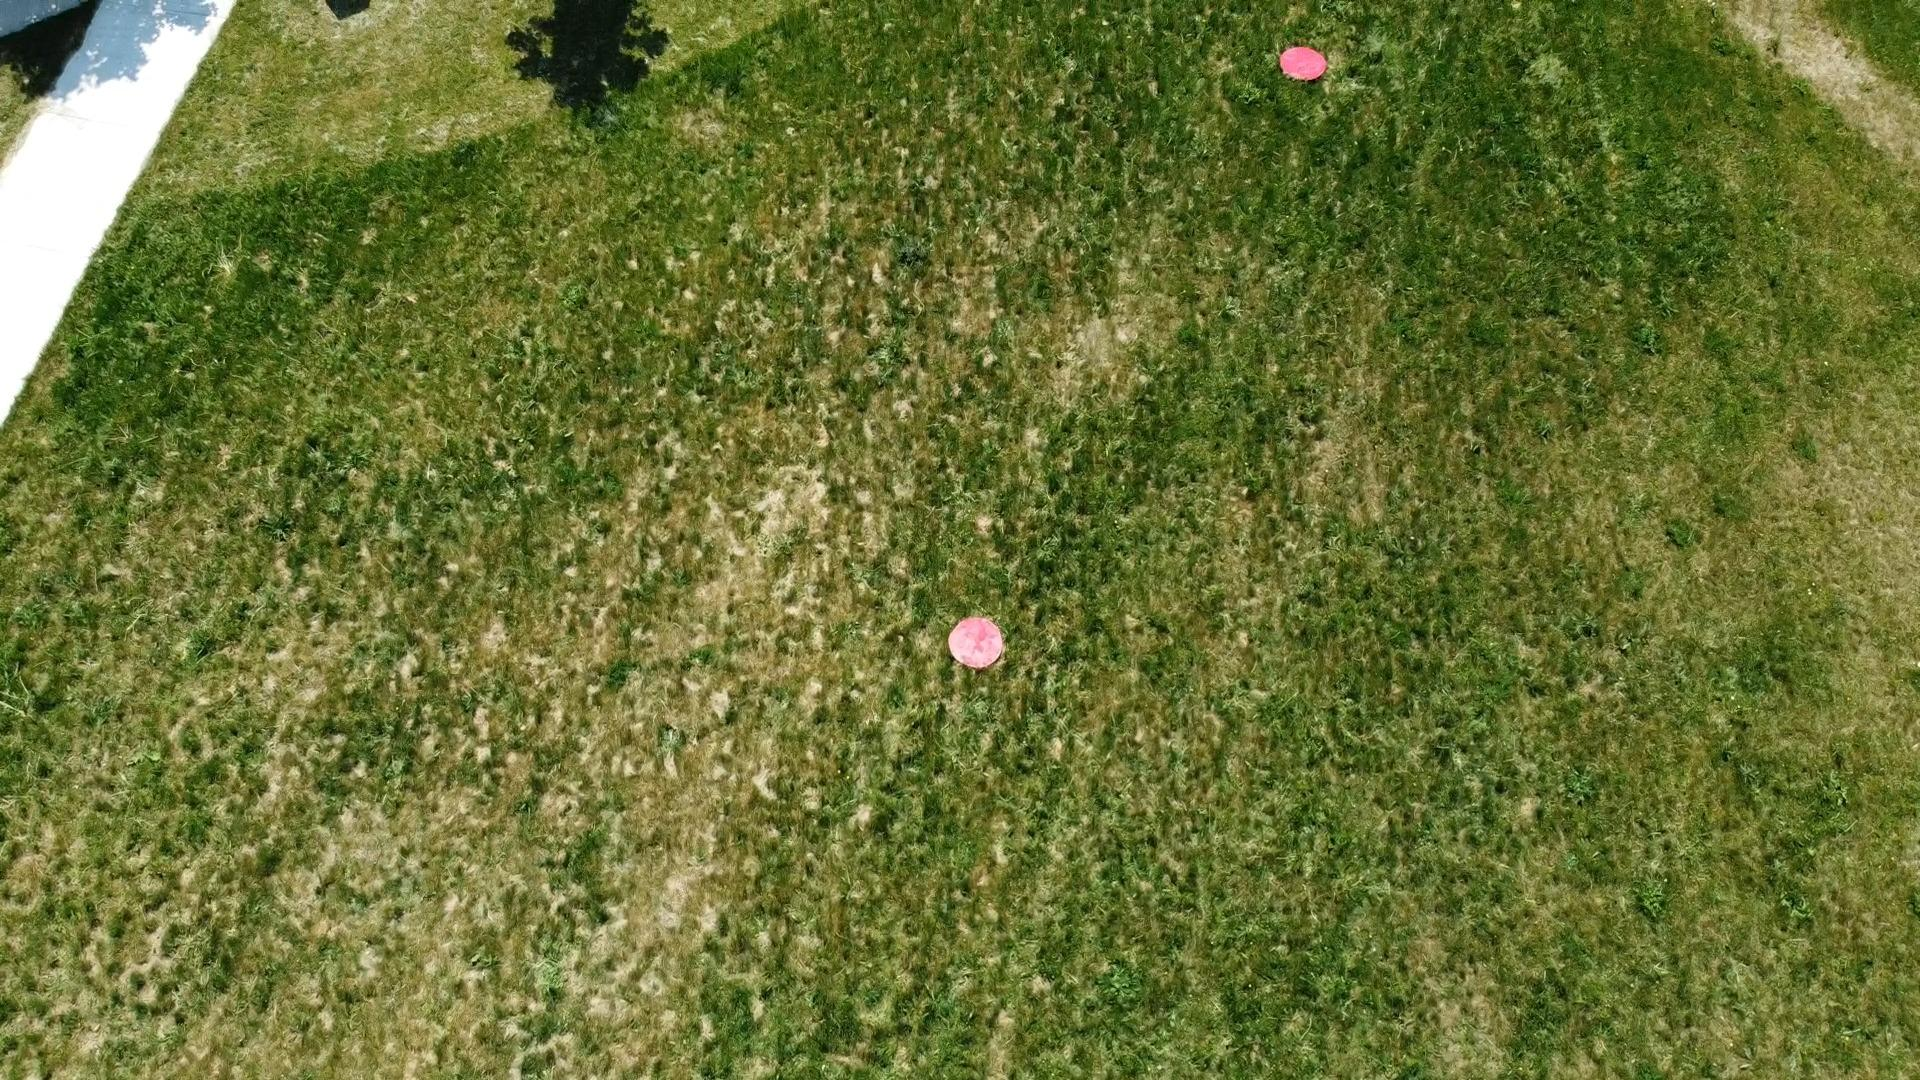Red: (947, 615, 1006, 670), (1278, 44, 1328, 83)
